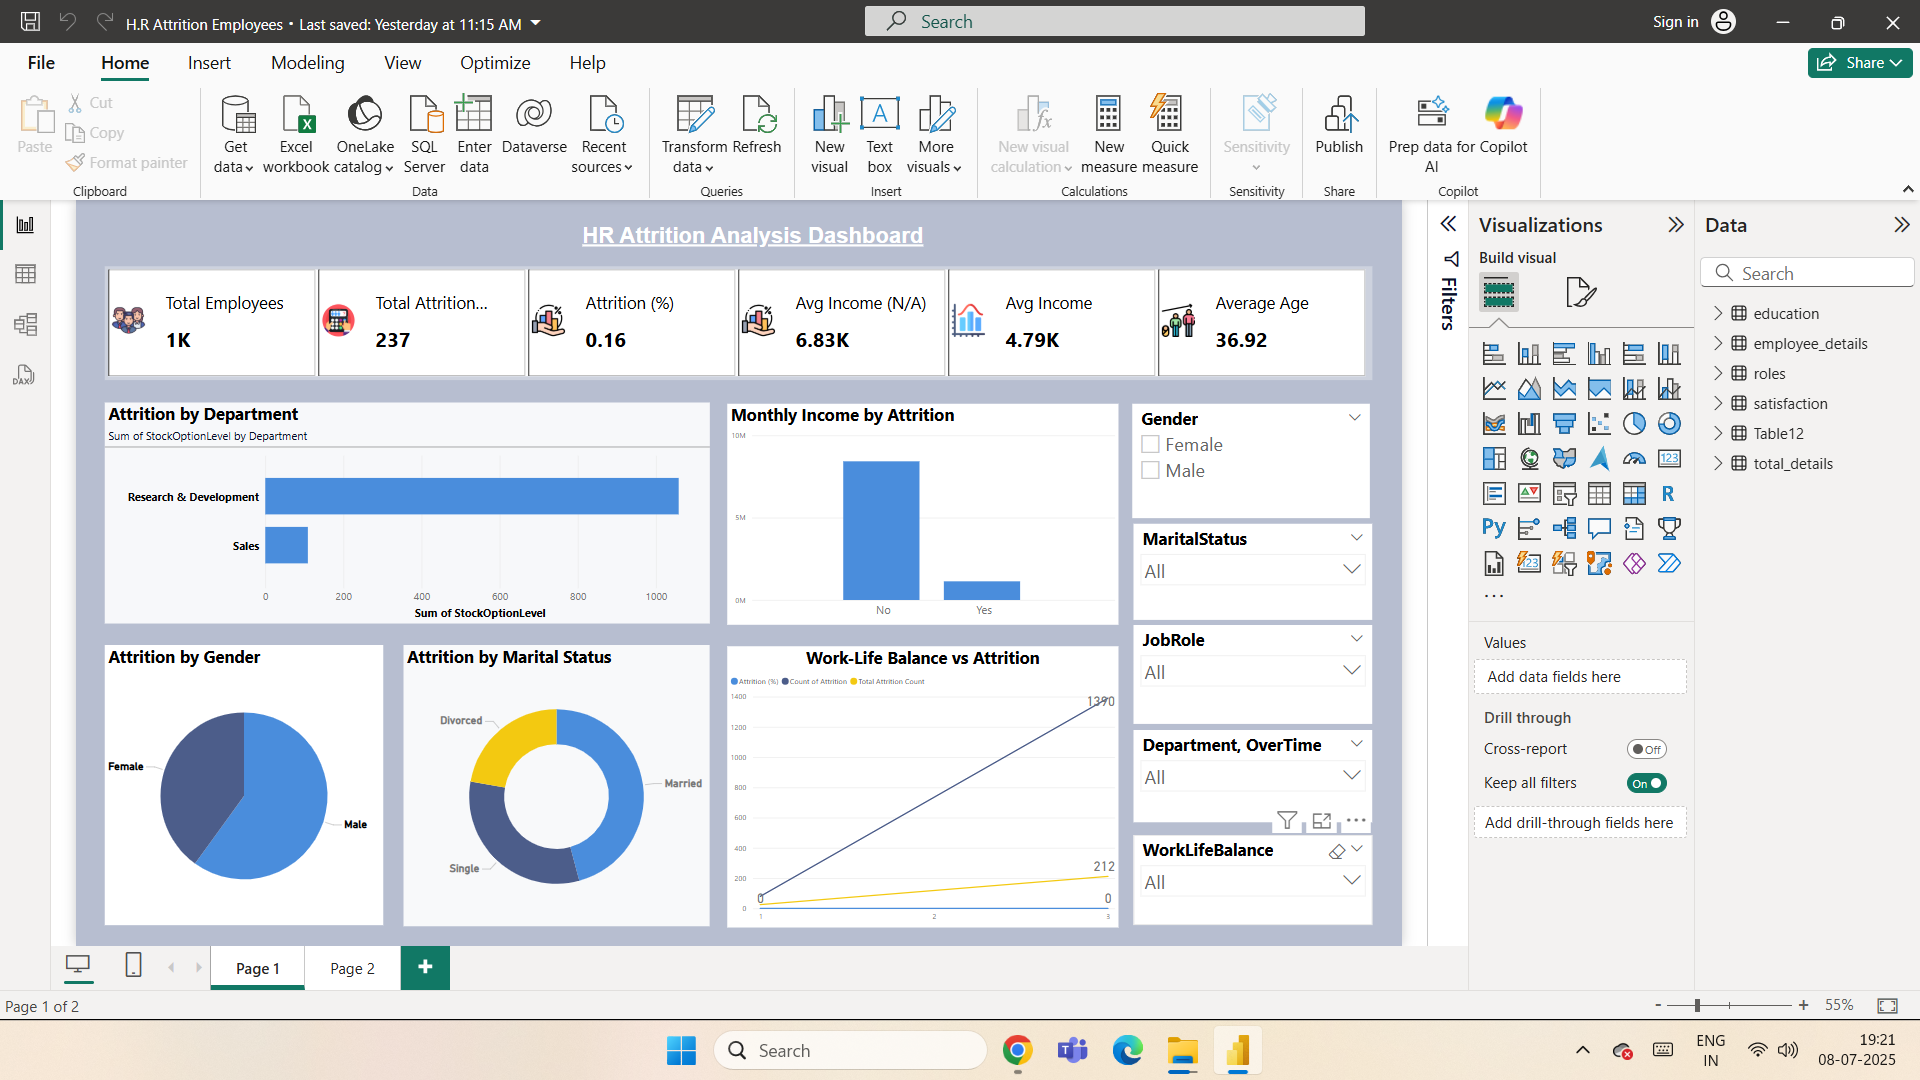

Layout of this report page (visuals, bound fields, positions):
{"tool":"powerbi","page":{"name":"Page 1","canvas":[1920,1080],"ordinal":0},"visuals":[{"type":"pieChart","title":" Attrition by Gender","fields":{"Category":["employee_details.Gender"],"Y":["CountNonNull(total_details.Attrition)"]},"box":[41.6,644.2,403.6,405.4],"z":0},{"type":"donutChart","title":"Attrition by Marital Status","fields":{"Category":["employee_details.MaritalStatus"],"Y":["CountNonNull(total_details.Attrition)"]},"box":[474.1,644.2,443.4,407.2],"z":1000},{"type":"columnChart","title":"Monthly Income by Attrition","fields":{"Category":["total_details.Attrition"],"Y":["Sum(total_details.MonthlyIncome)"]},"box":[942.8,295,566.4,320.3],"z":2000},{"type":"lineChart","title":"Work-Life Balance vs Attrition","fields":{"Category":["satisfaction.WorkLifeBalance"],"Y":["total_details.Attrition (%)","CountNonNull(total_details.Attrition)","total_details.Total Attrition Count"]},"box":[942.8,646,566.4,407.2],"z":3000},{"type":"cardVisual","fields":{"Data":["total_details.Total Employees","total_details.Total Attrition Count yes","total_details.Attrition Rate (%)","total_details.Avg Income (Non-Attrited)","total_details.Avg Income (Attrited)","total_details.Average Age (Attrited)"]},"box":[41.6,95.9,1835,164.7],"z":4000},{"type":"slicer","fields":{"Values":["employee_details.MaritalStatus"]},"box":[1531,468.7,345.6,139.3],"z":5000},{"type":"slicer","fields":{"Values":["employee_details.Gender"]},"box":[1530,294.6,344.3,165.7],"z":6000},{"type":"slicer","fields":{"Values":["roles.Department","roles.OverTime"]},"box":[1531,767.3,345.6,133.9],"z":7000},{"type":"slicer","fields":{"Values":["roles.JobRole"]},"box":[1531,615.3,345.6,143],"z":8000},{"type":"slicer","fields":{"Values":["satisfaction.WorkLifeBalance"]},"box":[1531,919.3,345.6,130.3],"z":9000},{"type":"barChart","title":"Attrition by Department","fields":{"Category":["roles.Department"],"Y":["Sum(total_details.StockOptionLevel)"]},"box":[41.6,293.2,875.9,320],"z":10000},{"type":"textbox","box":[99.5,29,1760.8,50.7],"z":11000}]}

Visuals, with their boxes on the page's 1920x1080 design canvas (x1, y1, x2, y2). These are canvas units, not pixel positions in the 1920x1080 screenshot, which may show the page scaled, cropped or inside an application window:
" Attrition by Gender" pieChart: 42,644,445,1050
"Attrition by Marital Status" donutChart: 474,644,918,1051
"Monthly Income by Attrition" columnChart: 943,295,1509,615
"Work-Life Balance vs Attrition" lineChart: 943,646,1509,1053
cardVisual - total_details.Total Employees x total_details.Total Attrition Count yes: 42,96,1877,261
slicer - employee_details.MaritalStatus: 1531,469,1877,608
slicer - employee_details.Gender: 1530,295,1874,460
slicer - roles.Department x roles.OverTime: 1531,767,1877,901
slicer - roles.JobRole: 1531,615,1877,758
slicer - satisfaction.WorkLifeBalance: 1531,919,1877,1050
"Attrition by Department" barChart: 42,293,918,613
textbox: 100,29,1860,80
